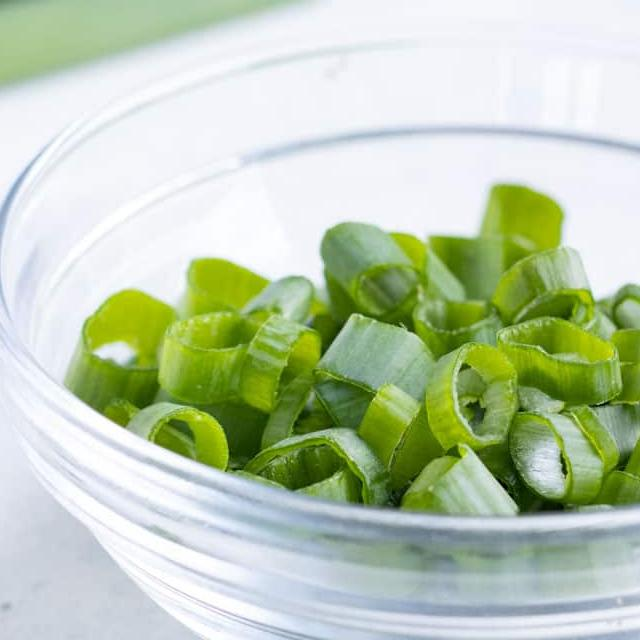green_onion: (23, 70, 640, 573)
